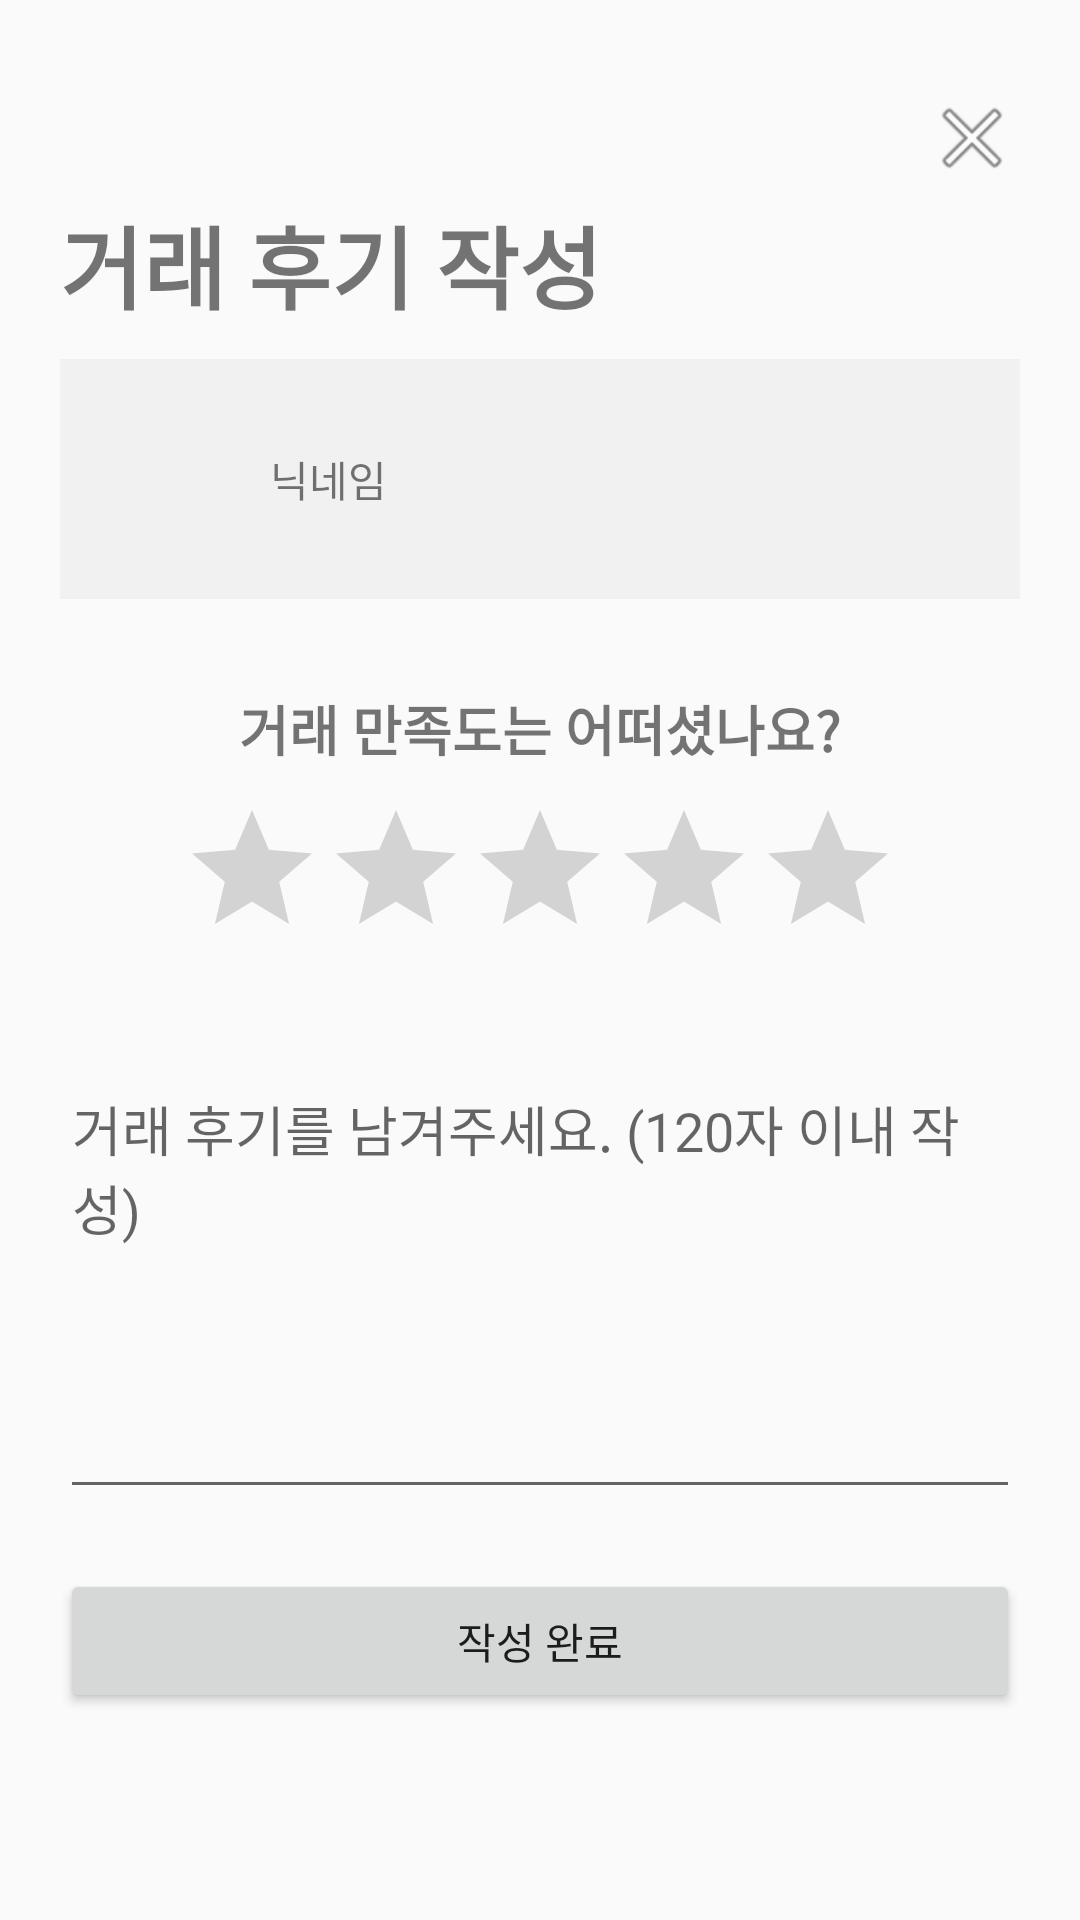

Icons on this 1080 x 1920 Android screen, each with the point to tap as (x,y):
close clear cancel: (972,138)
